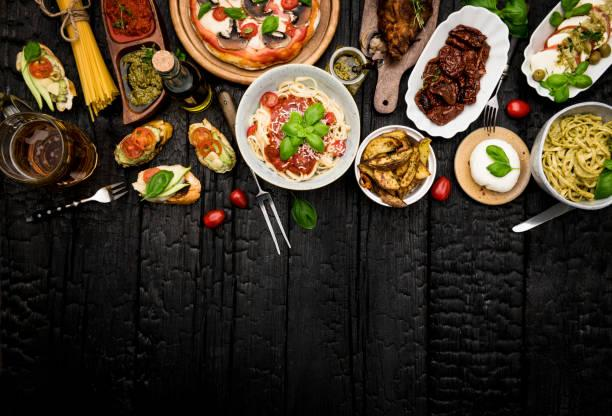Braised Crucian Carp: (234, 62, 358, 190), (403, 5, 511, 140), (167, 0, 341, 77), (521, 0, 612, 104), (530, 101, 609, 209), (354, 124, 434, 206)
